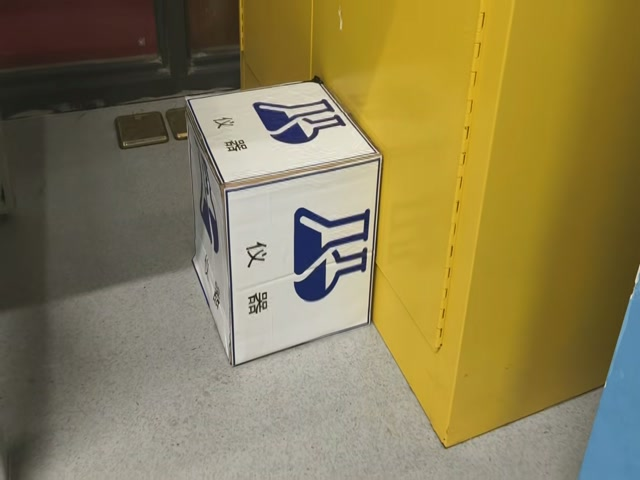Cube_ins: (185, 80, 384, 190)
